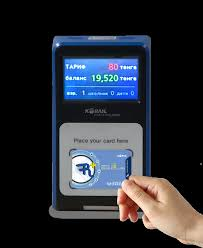terminal: (45, 31, 159, 224)
